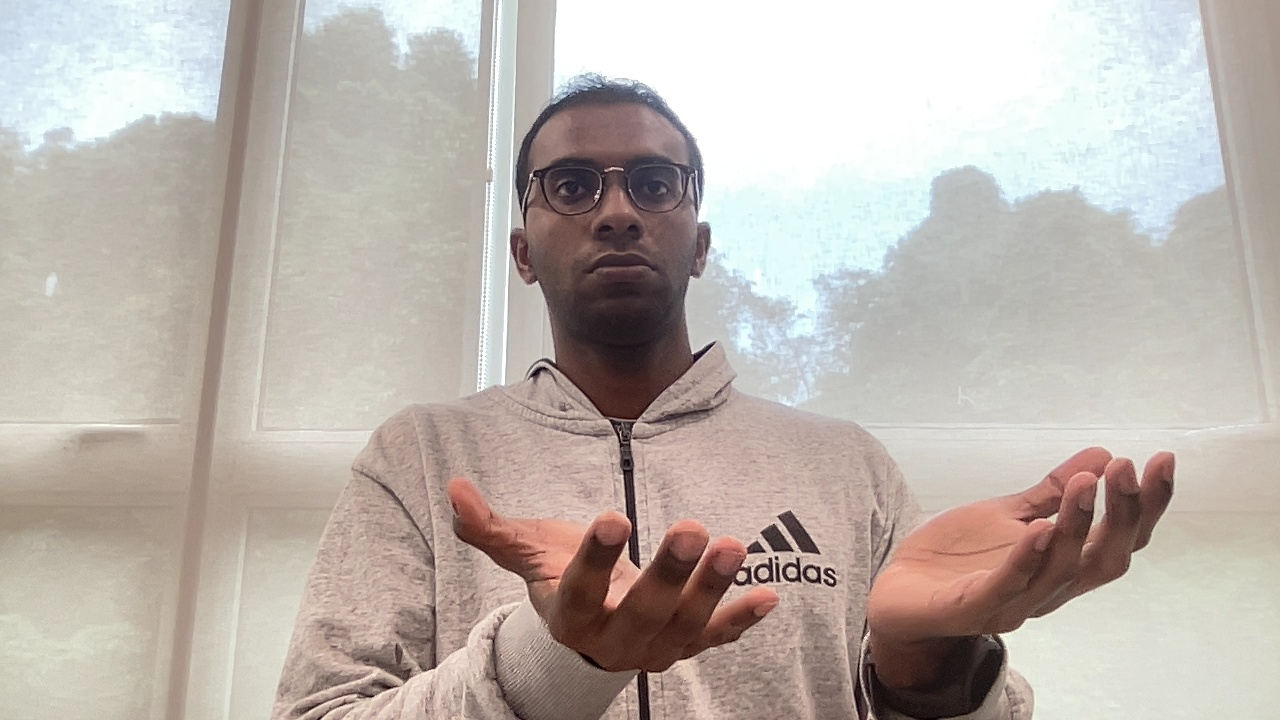give: (439, 439, 1186, 682)
